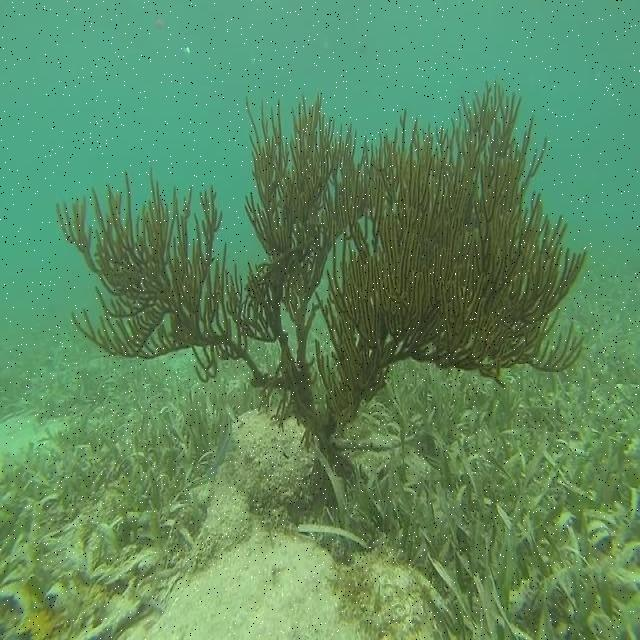aquatic plants: (59, 93, 584, 483), (306, 308, 639, 639), (0, 311, 268, 636)
